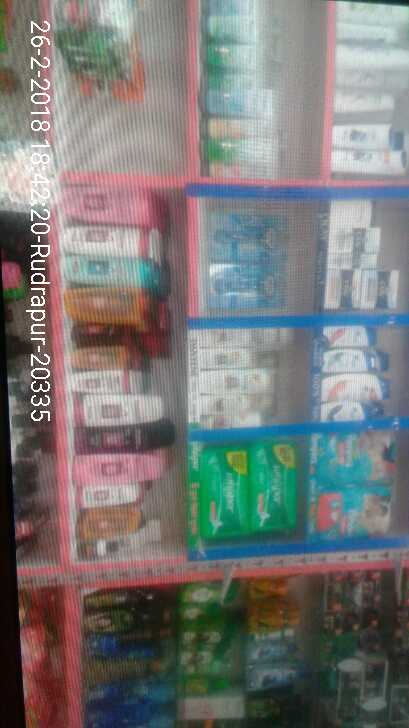venus: (211, 215, 283, 263), (211, 263, 280, 301)
